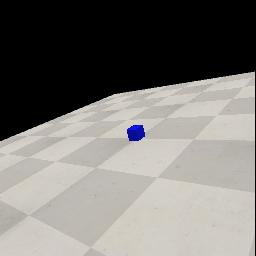box: (127, 125, 145, 141)
